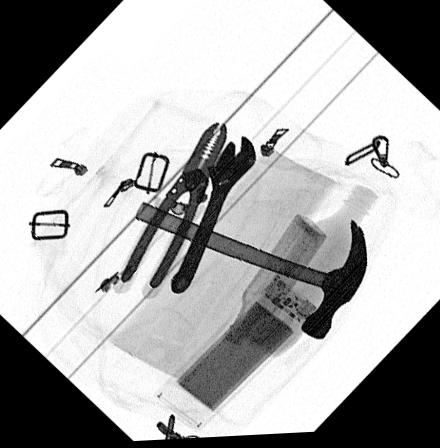Hammer: (134, 203, 366, 343)
Pliers: (109, 124, 227, 299)
Powerbank: (150, 276, 320, 433)
Wrench: (169, 137, 254, 295)
